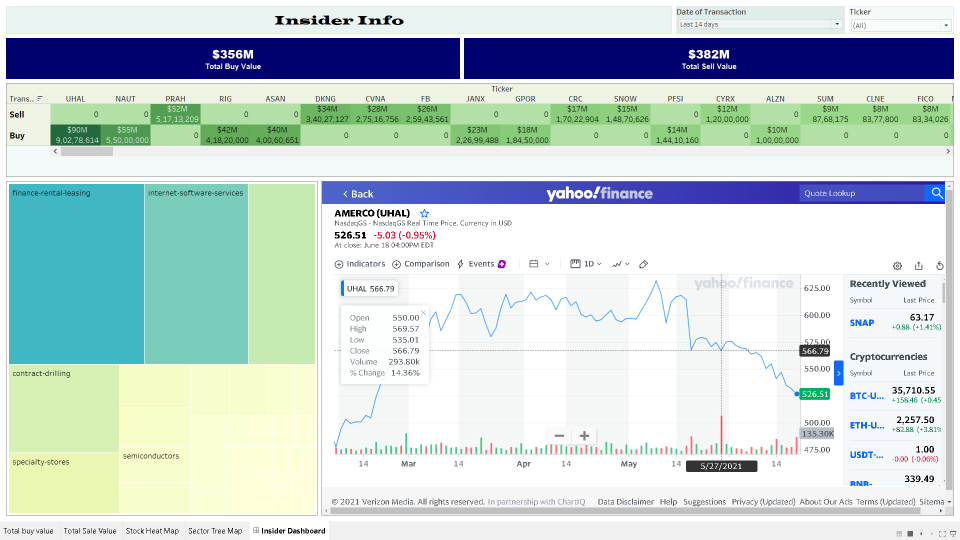

The page's visual inventory and layout, read from the dashboard file:
{"tool":"tableau","page":{"name":"Insider Dashboard","canvas":[1000,1000],"units":"permille","ordinal":0},"visuals":[{"type":"worksheet","box":[0,0,1000,1000]},{"type":"worksheet","param":"horz","box":[4.8,9,990.3,982]},{"type":"worksheet","box":[4.8,9,990.3,982]},{"type":"worksheet","box":[4.8,9,697,60.9]},{"type":"worksheet","title":"Stock Heat Map","mark":"Square","rows":["Type"],"cols":["Symbol"],"param":"[federated.02157nd1vlwibs1b9q18v1r2gj1k].[none:Date:qk]","box":[701.9,9,179.8,60.9]},{"type":"worksheet","title":"Stock Heat Map","mark":"Square","rows":["Type"],"cols":["Symbol"],"param":"[federated.02157nd1vlwibs1b9q18v1r2gj1k].[none:Symbol:nk]","box":[881.7,9,113.5,60.9]},{"type":"worksheet","param":"horz","box":[4.8,69.9,990.3,921.1]},{"type":"worksheet","box":[4.8,69.9,990.3,921.1]},{"type":"worksheet","param":"horz","box":[4.8,69.9,990.3,921.1]},{"type":"worksheet","box":[4.8,69.9,990.3,921.1]},{"type":"worksheet","title":"Total buy value","mark":"Automatic","box":[4.8,69.9,476.6,86.4]},{"type":"worksheet","title":"Total Sale Value","mark":"Automatic","box":[481.5,69.9,513.7,86.4]},{"type":"worksheet","title":"Stock Heat Map","mark":"Square","rows":["Type"],"cols":["Symbol"],"box":[4.8,156.3,990.3,187.3]},{"type":"worksheet","title":"Sector Tree Map","mark":"Automatic","box":[4.8,343.6,328.2,647.4]},{"type":"worksheet","param":"https://finance.yahoo.com/chart/SNAP","box":[333,343.6,662.2,647.4]}]}

Visuals, with their boxes on the dashboard's canvas, which has no fixed pixel size, in thousandths of its width and height (x1, y1, x2, y2). These are canvas units, not pixel positions in the 960x540 screenshot, which may show the page scaled, cropped or inside an application window:
worksheet: bbox=(0, 0, 1000, 1000)
worksheet: bbox=(5, 9, 995, 991)
worksheet: bbox=(5, 9, 995, 991)
worksheet: bbox=(5, 9, 702, 70)
"Stock Heat Map" worksheet (Square marks): bbox=(702, 9, 882, 70)
"Stock Heat Map" worksheet (Square marks): bbox=(882, 9, 995, 70)
worksheet: bbox=(5, 70, 995, 991)
worksheet: bbox=(5, 70, 995, 991)
worksheet: bbox=(5, 70, 995, 991)
worksheet: bbox=(5, 70, 995, 991)
"Total buy value" worksheet: bbox=(5, 70, 481, 156)
"Total Sale Value" worksheet: bbox=(482, 70, 995, 156)
"Stock Heat Map" worksheet (Square marks): bbox=(5, 156, 995, 344)
"Sector Tree Map" worksheet: bbox=(5, 344, 333, 991)
worksheet: bbox=(333, 344, 995, 991)
